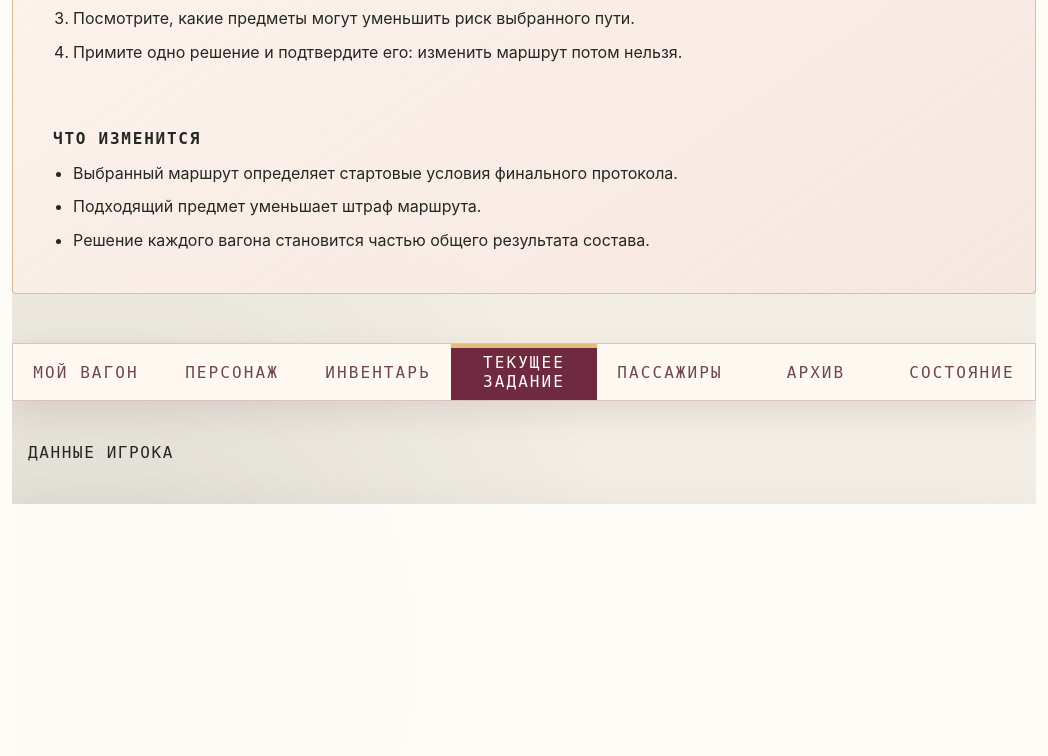
Test case: persistent Bunker V2 player dashboard › keeps passengers, inventory, archive and wagon state visible during M05 without old mission models
This screenshot has width=1048, height=756.
(page scrolled)
Click the button "ПАССАЖИРЫ": x=670, y=372 [597, 344, 743, 400]
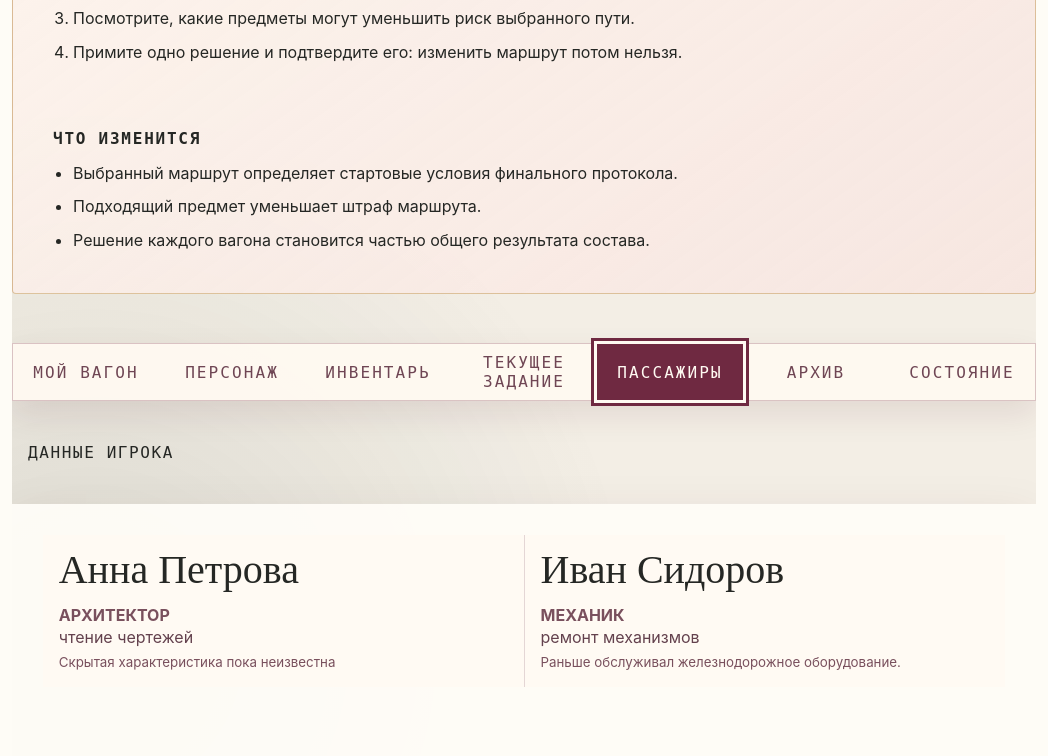
Now the heading "Анна Петрова" is shown, box [59, 547, 299, 592]
Now the heading "Иван Сидоров" is shown, box [540, 547, 784, 592]
Now the text "МЕХАНИК" is shown, box [540, 605, 624, 625]
Click the button "ИНВЕНТАРЬ": x=378, y=372 [305, 344, 451, 400]
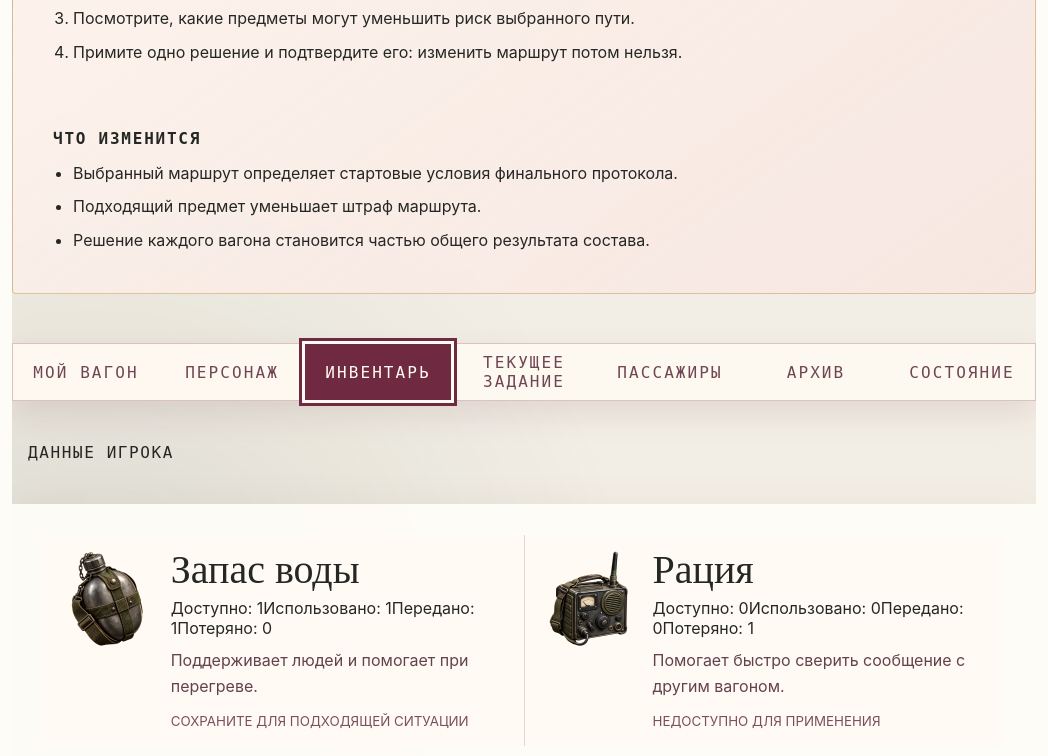
Now the heading "Запас воды" is shown, box [171, 547, 360, 592]
Now the text "Доступно: 1" is shown, box [171, 598, 263, 618]
Now the text "Использовано: 1" is shown, box [263, 598, 392, 618]
Click the button "АРХИВ": x=816, y=372 [743, 344, 889, 400]
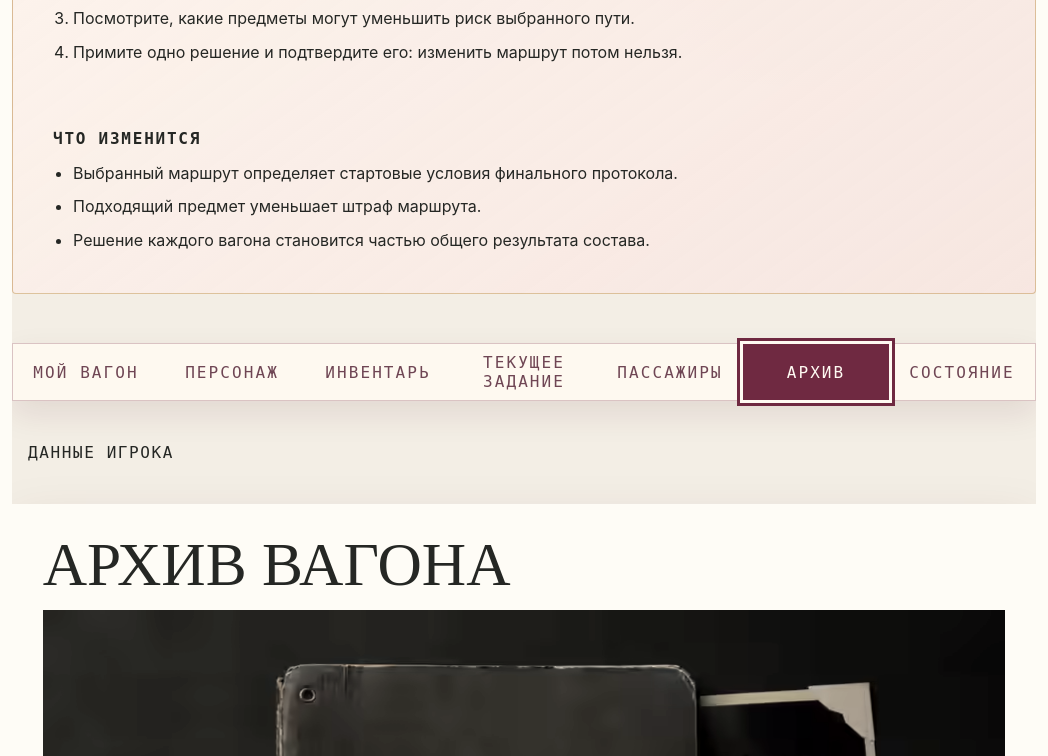
Click the button "СОСТОЯНИЕ": x=962, y=372 [889, 344, 1035, 400]
(page scrolled)
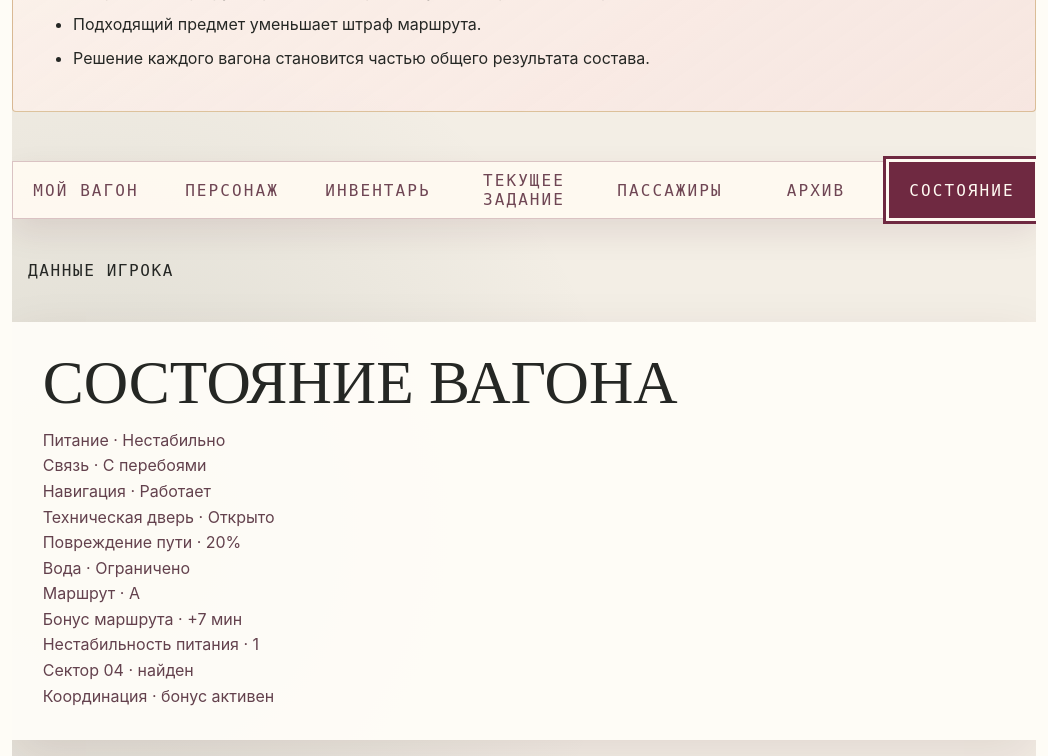
Now the text "Питание · Нестабильно" is shown, box [43, 430, 225, 450]
Now the text "Связь · С перебоями" is shown, box [43, 455, 206, 475]
Now the text "Навигация · Работает" is shown, box [43, 481, 211, 501]
